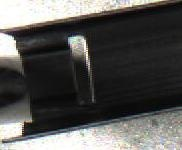press: (0, 12, 132, 141), (160, 8, 182, 139)
